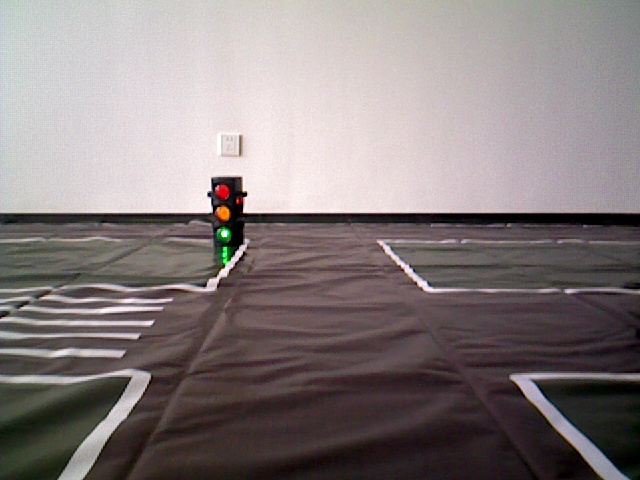green: (209, 180, 241, 241)
